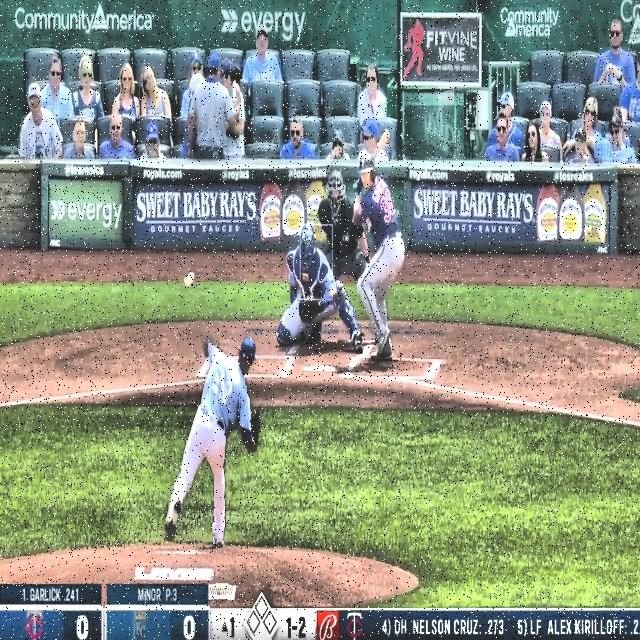baseball: (183, 270, 195, 288)
